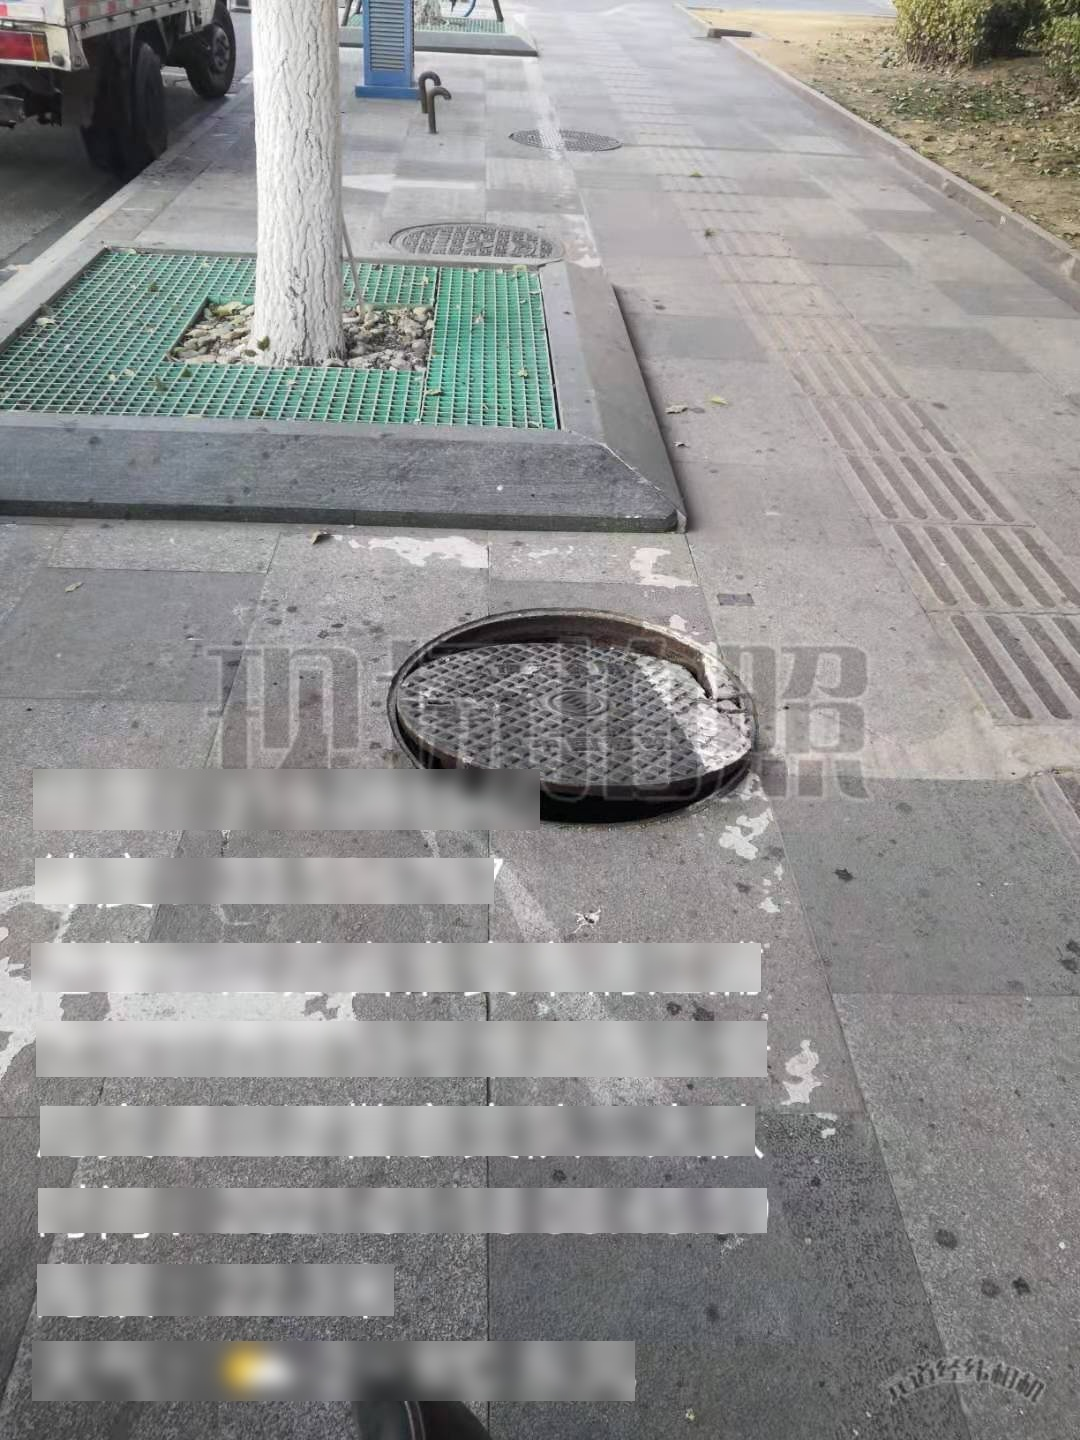uncovered: (386, 605, 759, 828)
